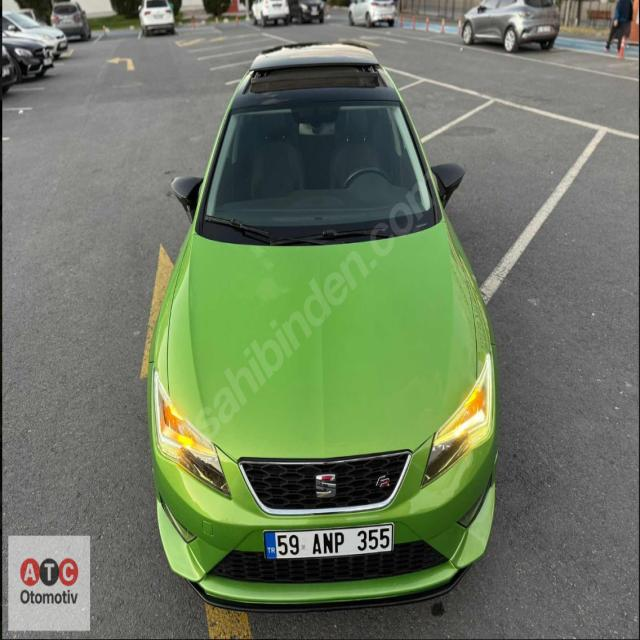seat: (315, 470, 339, 504)
